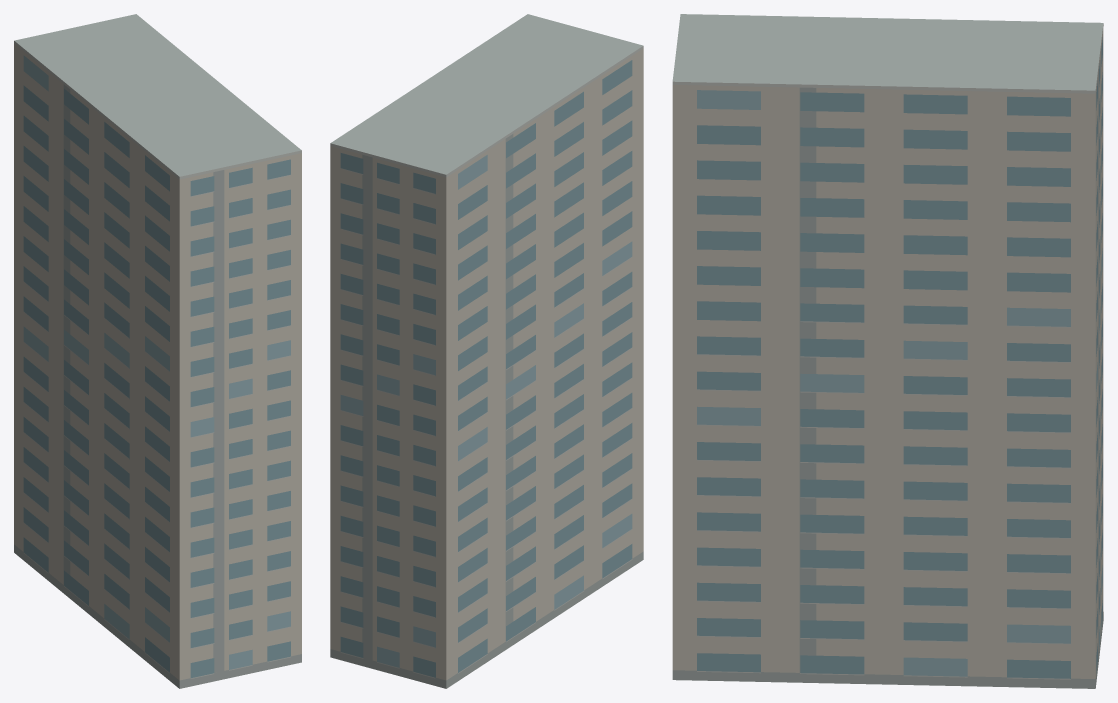
File: residential-22279b02-66d9-4474-a2e2-d75c4facd0ac.glb
The picture shows the model from 3 angles, left to right: view 1: azimuth 30°, elevation 25°; view 2: azimuth 150°, elevation 25°; view 3: azimuth 270°, elevation 25°; orthographic projection. The views are drawn at different scales.
Visible parts, largest first — view 1: residential-22279b02-66d9-4474-a2e2-d75c4facd0ac.tmp; view 2: residential-22279b02-66d9-4474-a2e2-d75c4facd0ac.tmp; view 3: residential-22279b02-66d9-4474-a2e2-d75c4facd0ac.tmp.
Part boxes in pixels (x1,y1,x2,y2): residential-22279b02-66d9-4474-a2e2-d75c4facd0ac.tmp: [14, 14, 301, 688]; residential-22279b02-66d9-4474-a2e2-d75c4facd0ac.tmp: [330, 14, 643, 688]; residential-22279b02-66d9-4474-a2e2-d75c4facd0ac.tmp: [672, 14, 1103, 688].
Size of the model in its own units: 12.93 by 47 by 30.69.
